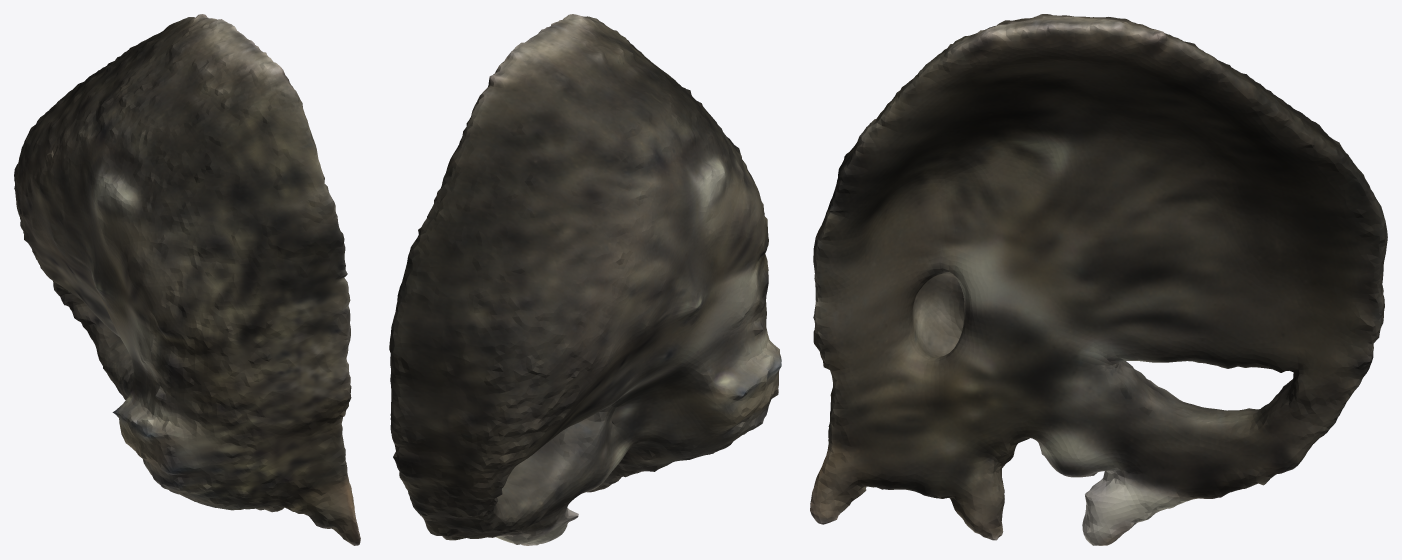
Rendered from IMG_SEG_38.glb.
3 renders of one model, left to right at view 1: azimuth 30°, elevation 25°; view 2: azimuth 150°, elevation 25°; view 3: azimuth 270°, elevation 25°, orthographic. The views are drawn at different scales.
Size of the model in its own units: 0.4048 by 1.03 by 1.03.
1 material, 1 textured.
